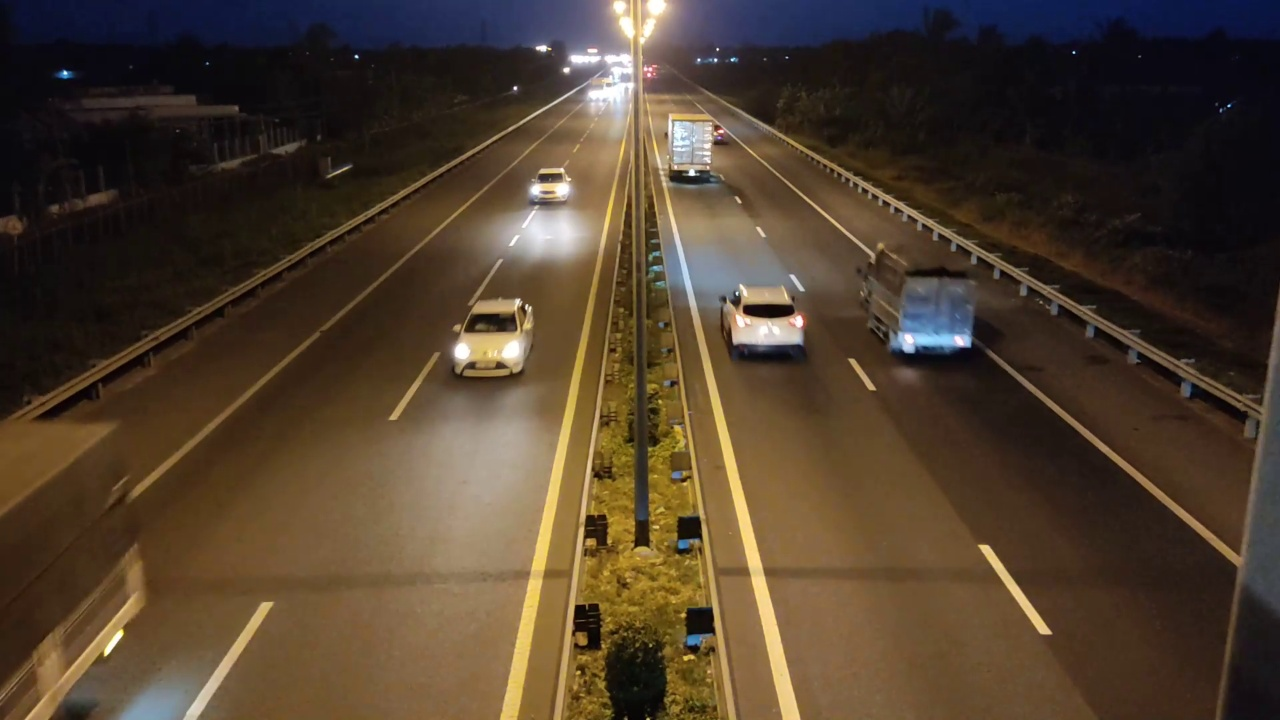car: (718, 277, 811, 365), (450, 297, 535, 377), (527, 166, 574, 206)
truck: (855, 241, 979, 357), (667, 113, 715, 184)
